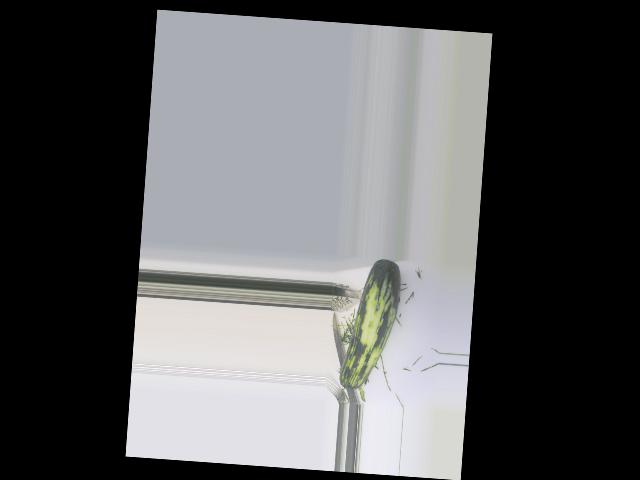cucumber: (338, 257, 402, 393)
